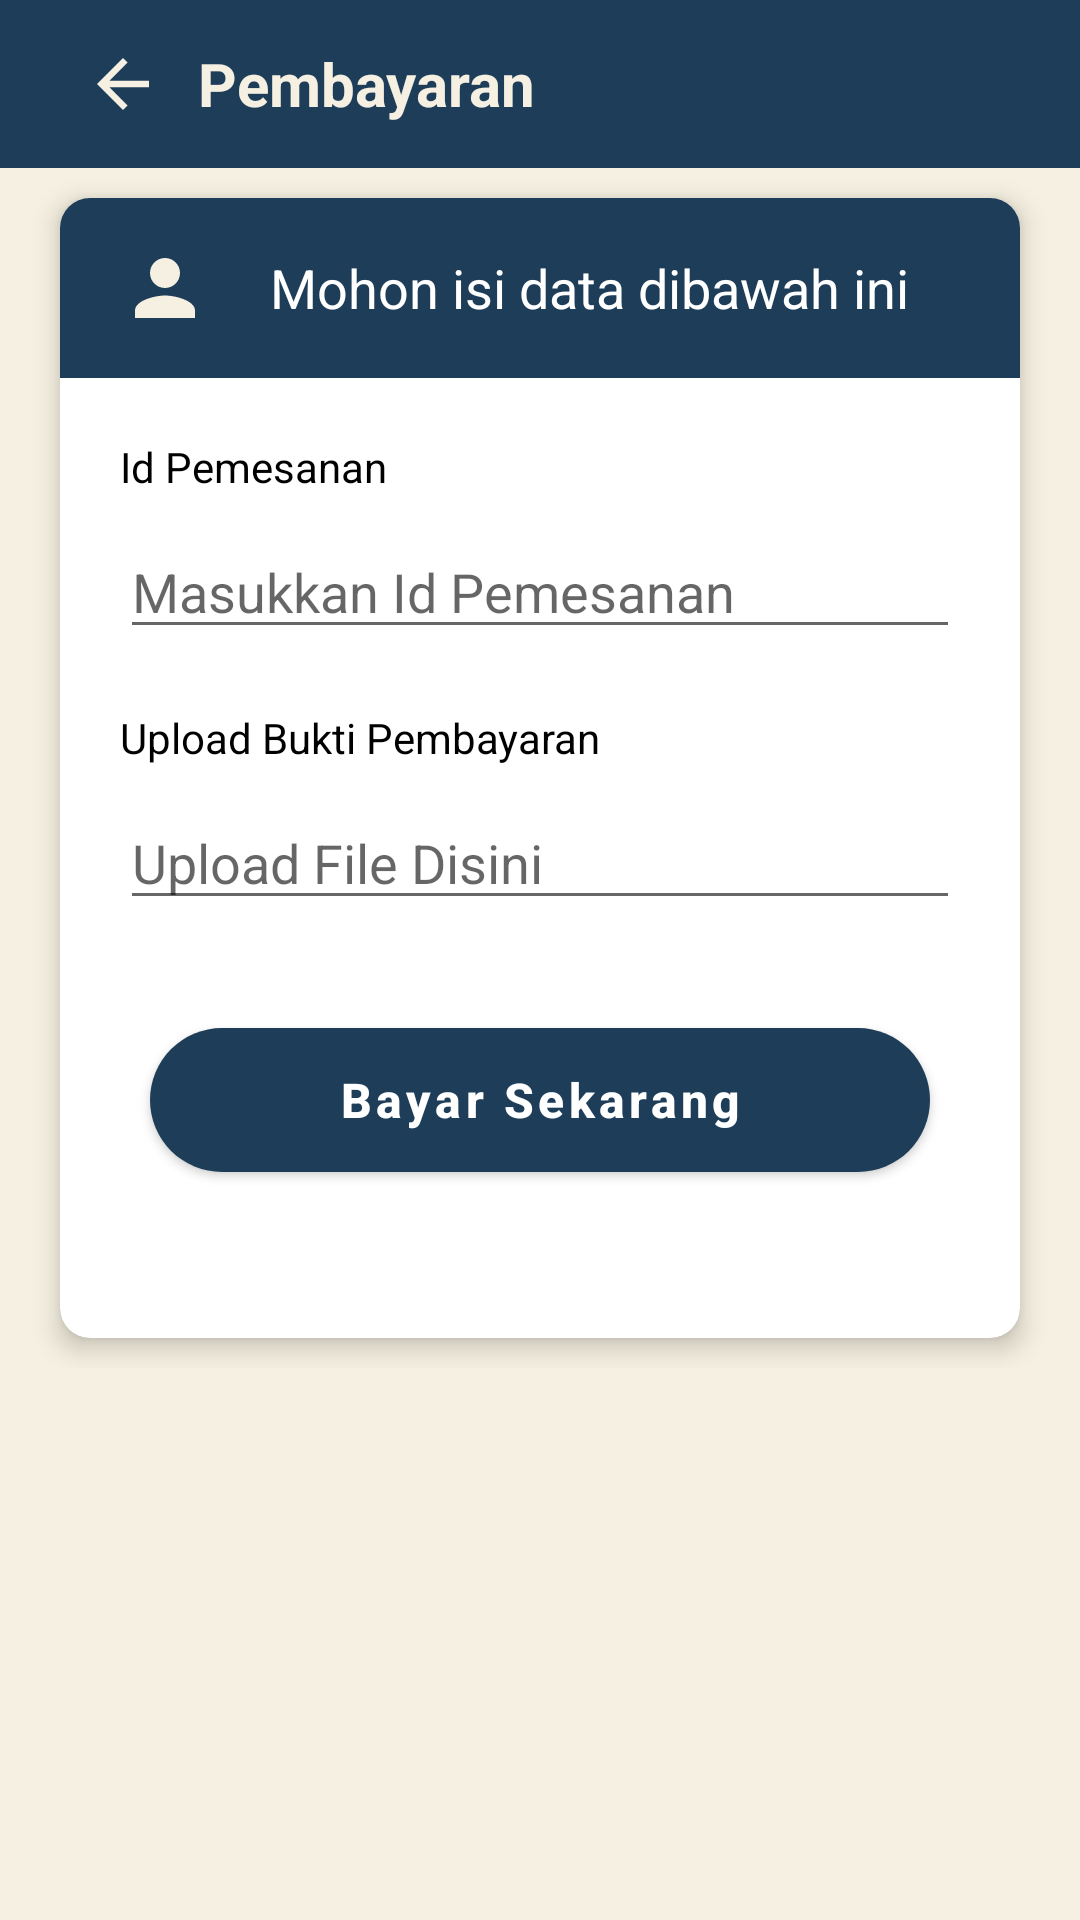

Icon bounding boxes for this 1080*1920 phone screenshot, format (x1, y1, x2, y2):
arrow back: (97, 58, 149, 110)
person: (135, 258, 195, 318)
